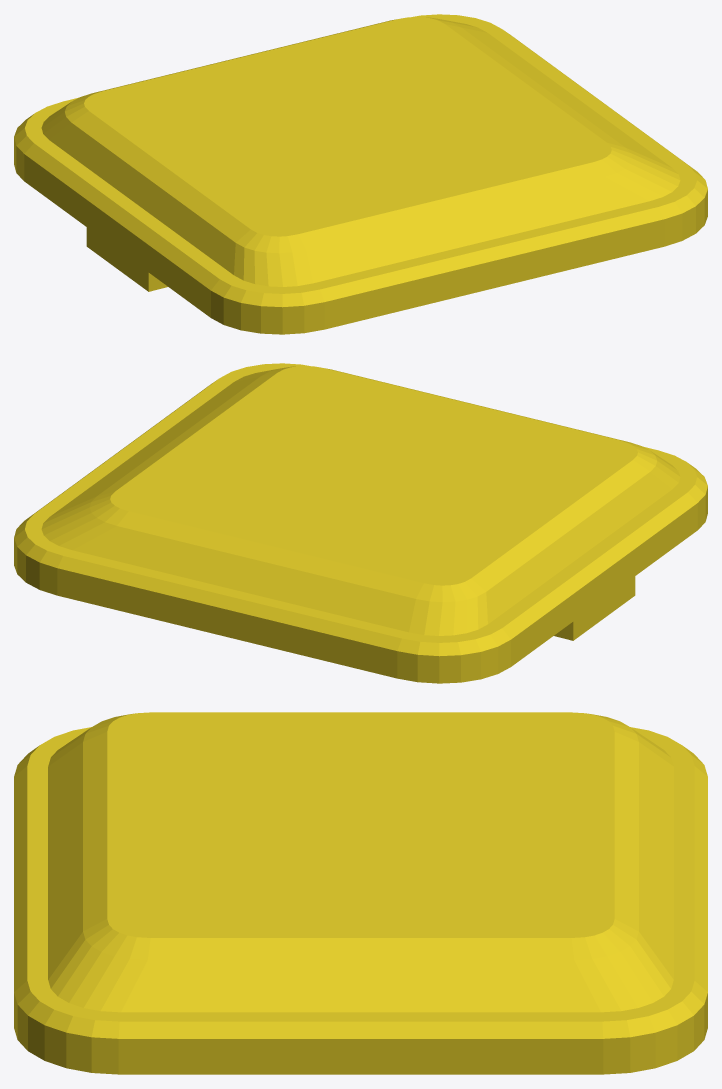
File: bin_top.fbx
The picture shows the model from 3 angles, top to bottom: view 1: azimuth 30°, elevation 25°; view 2: azimuth 150°, elevation 25°; view 3: azimuth 270°, elevation 25°; orthographic projection. The views are drawn at different scales.
Visible parts, largest first — view 1: bin_top; view 2: bin_top; view 3: bin_top.
Part boxes in pixels (bbox=[...]): bin_top: bbox=[14, 14, 707, 334]; bin_top: bbox=[14, 363, 707, 683]; bin_top: bbox=[14, 712, 707, 1074].
Bounding box in the file's own units: 256 × 43.29 × 243.
